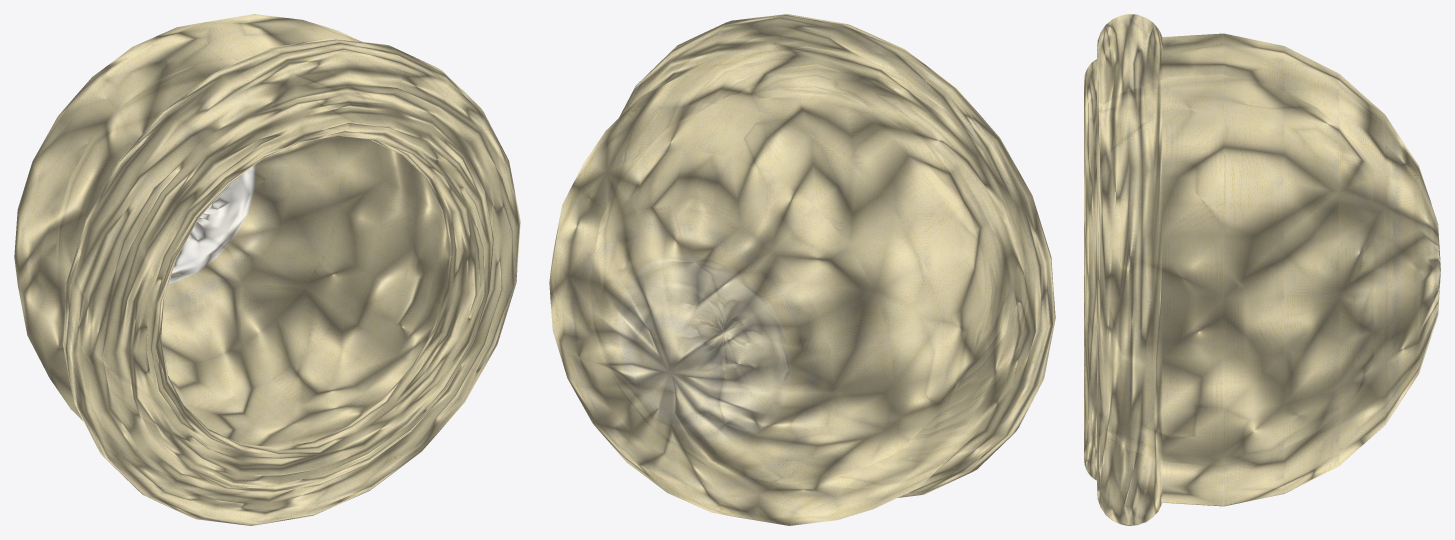
File: model_align.obj
3 views of the same model, side by side, from view 1: azimuth 30°, elevation 25°; view 2: azimuth 150°, elevation 25°; view 3: azimuth 270°, elevation 25° (orthographic).
Size of the model in its own units: 0.1421 by 0.1421 by 0.0985.
